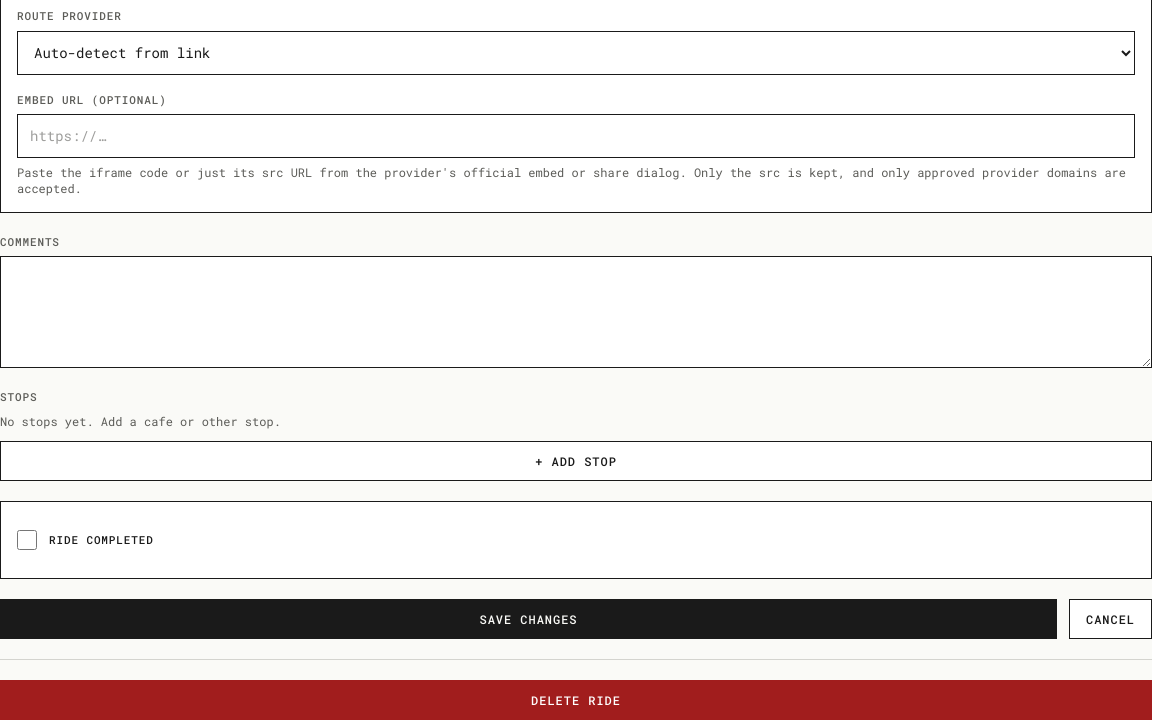
Test case: RideForm delete › shows an error and keeps the ride when deleting fails
The width and height of the screenshot is (1152, 720).
(page scrolled)
Click the button "Delete ride". click: (576, 700)
box: [0, 680, 1151, 719]
(page scrolled)
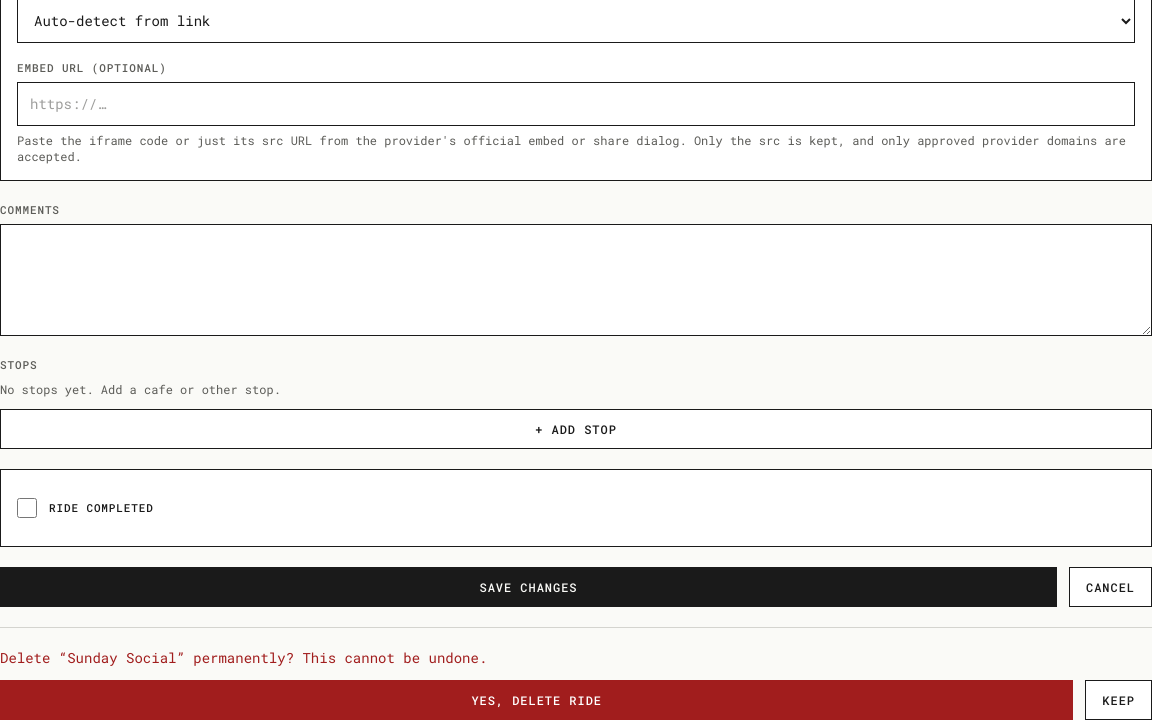
Click the button "Yes, delete ride". click: (537, 700)
box: [0, 680, 1073, 719]
(page scrolled)
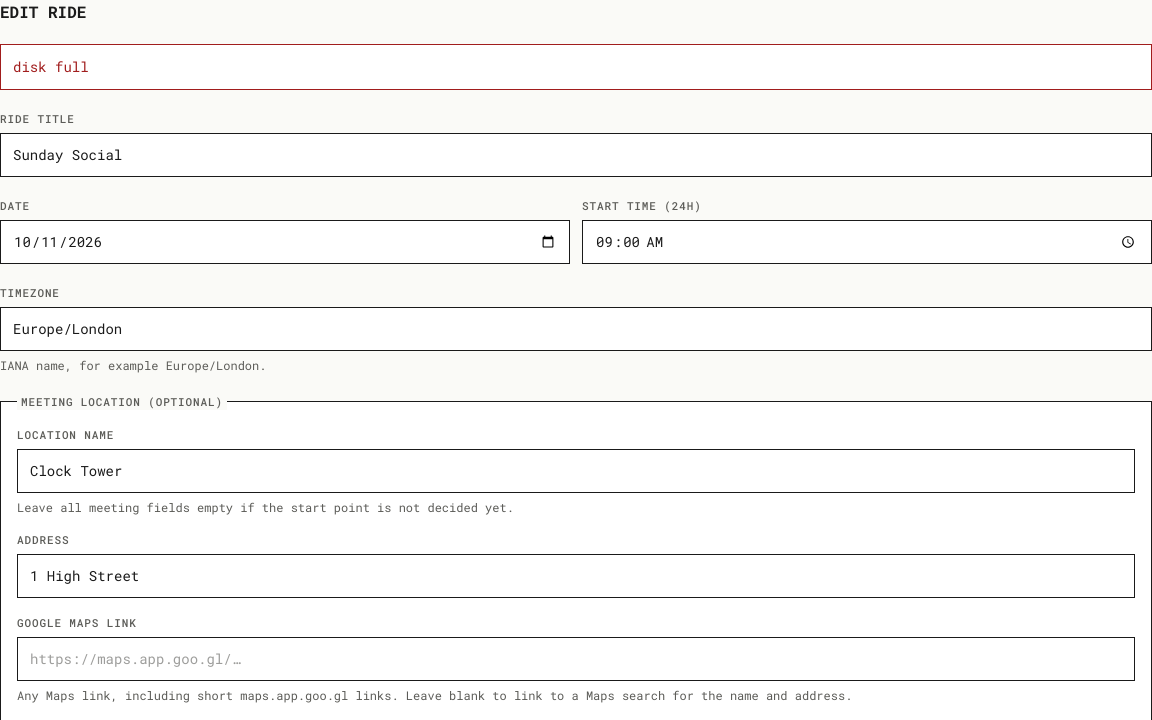
Now the text "disk full" is shown, box [0, 44, 1151, 90]
